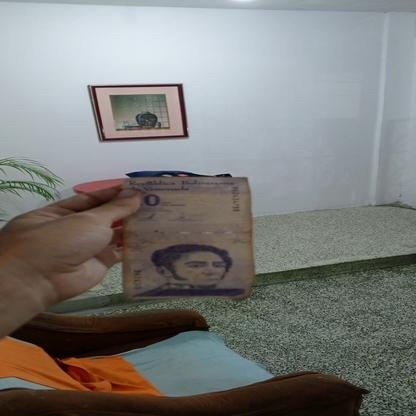ten-front-vef: (121, 178, 252, 300)
